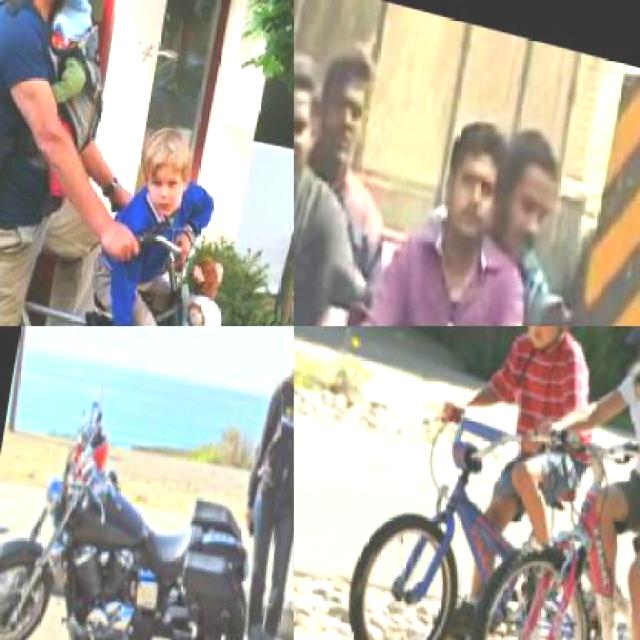With Helmet: (503, 326, 595, 354)
Without Helmet: (487, 102, 568, 262), (436, 104, 512, 251), (309, 23, 380, 180), (294, 39, 334, 183)
